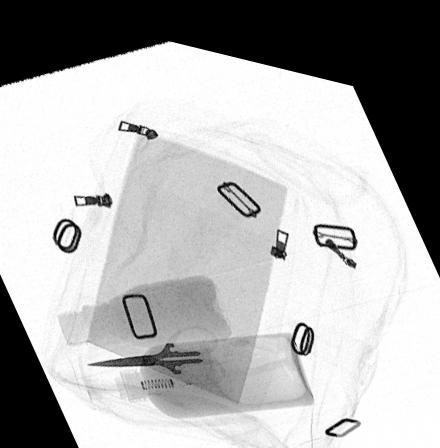Scissors: (84, 314, 226, 377)
